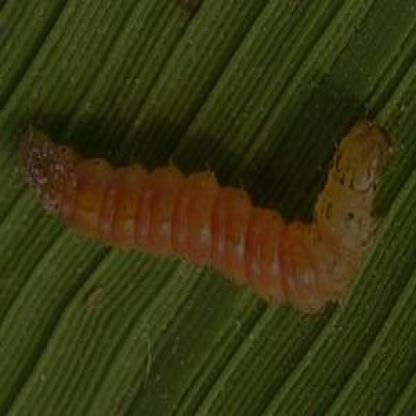leaf-folder: (18, 84, 396, 315)
